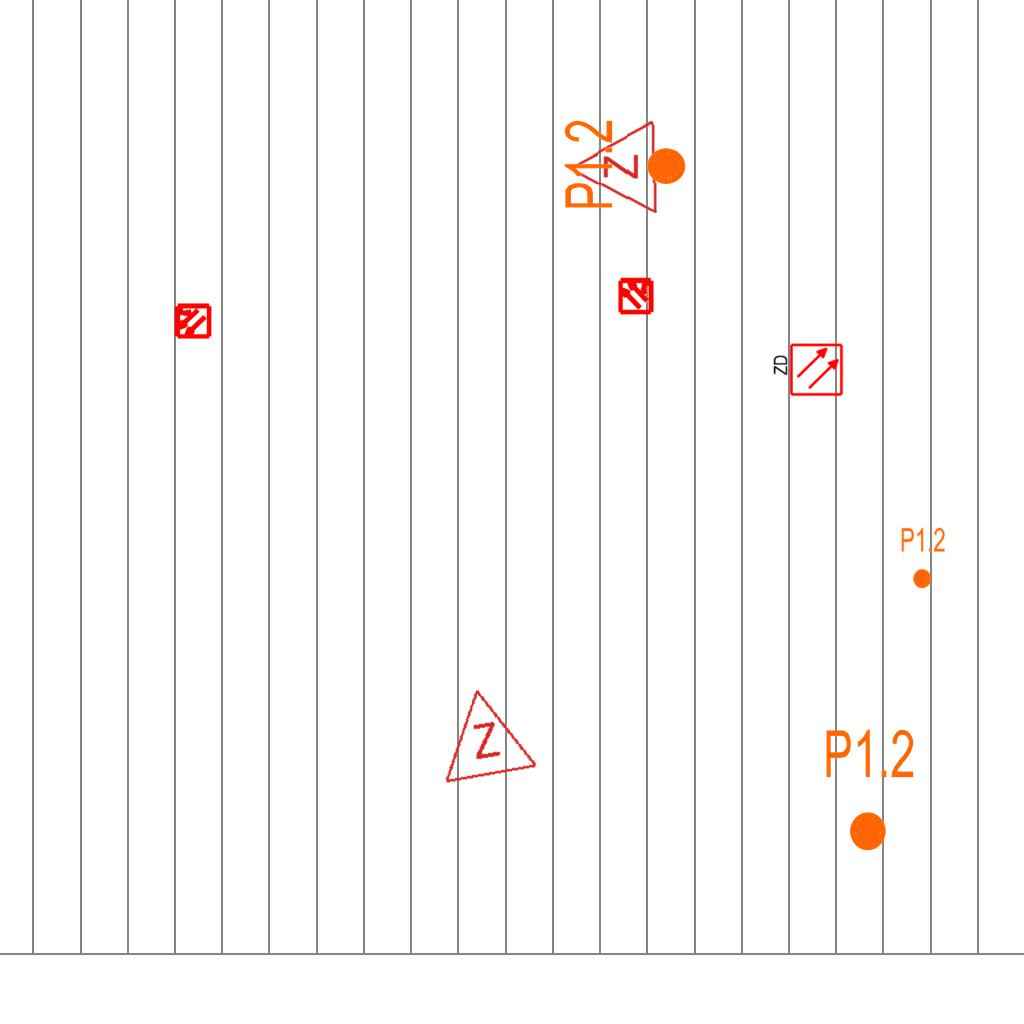Downlight_LED_Einbauleuchten_Flur: (823, 726, 916, 854), (561, 118, 689, 211), (900, 526, 946, 590)
OT_Multisensormelder_(Kombination_RMO_WMD): (608, 267, 664, 323), (164, 293, 220, 349)
ZD_Melder_in_Zwischendecke_mit_Revisionsoeffnung_mind_40_x_40_cm: (770, 342, 844, 399)
Zimmersignalleuchte: (426, 675, 540, 791), (561, 118, 665, 220)
